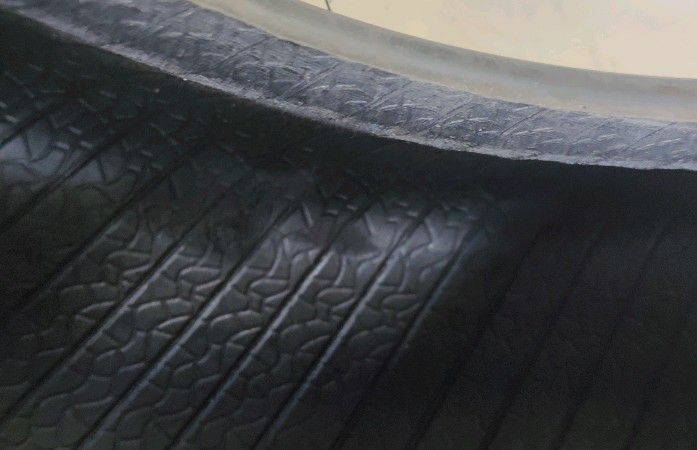CBU: (112, 140, 381, 261)
